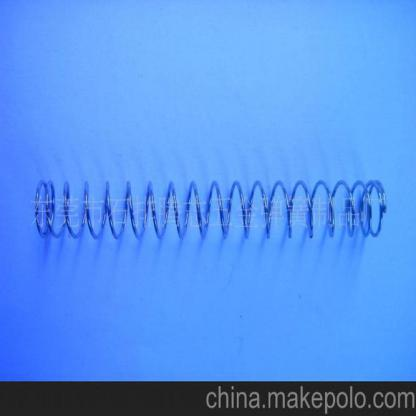FOD: (29, 172, 388, 247)
